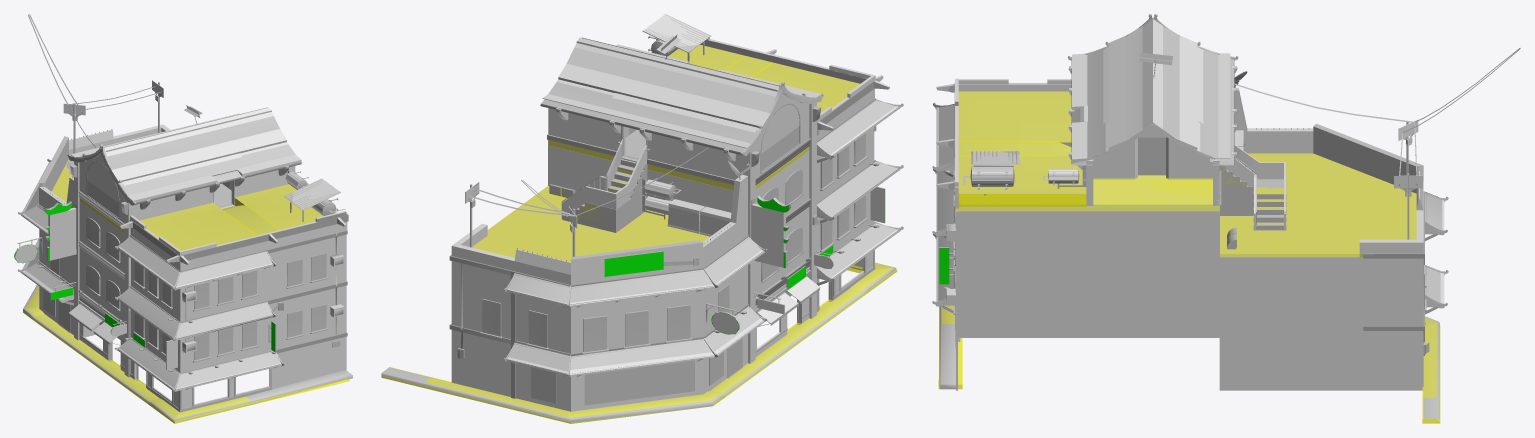
File: CT_building_012.dae
3 renders of one model, left to right at view 1: azimuth 30°, elevation 25°; view 2: azimuth 150°, elevation 25°; view 3: azimuth 270°, elevation 25°, orthographic. The views are drawn at different scales.
Visible parts, largest first — view 1: ColMesh-3, _012_building800, _012_building100, _012_building400, ColMesh-2; view 2: ColMesh-3, _012_building800, _012_building400, ColMesh-2, _012_building100; view 3: ColMesh-3, _012_building800, ColMesh-2, _012_building400, _012_building100.
Part boxes in pixels (left/top/right/bottom): ColMesh-3: left=15, top=80, right=347, bottom=408; _012_building800: left=14, top=14, right=352, bottom=423; _012_building100: left=24, top=144, right=295, bottom=388; _012_building400: left=15, top=96, right=345, bottom=390; ColMesh-2: left=23, top=159, right=349, bottom=423; ColMesh-3: left=451, top=14, right=899, bottom=411; _012_building800: left=381, top=14, right=903, bottom=423; _012_building400: left=459, top=35, right=903, bottom=376; ColMesh-2: left=381, top=45, right=897, bottom=423; _012_building100: left=508, top=53, right=897, bottom=371; ColMesh-3: left=936, top=17, right=1444, bottom=390; _012_building800: left=932, top=14, right=1520, bottom=419; ColMesh-2: left=938, top=91, right=1440, bottom=423; _012_building400: left=932, top=15, right=1448, bottom=314; _012_building100: left=937, top=48, right=1442, bottom=302.
Size of the model in its own units: 190 by 169 by 303.
